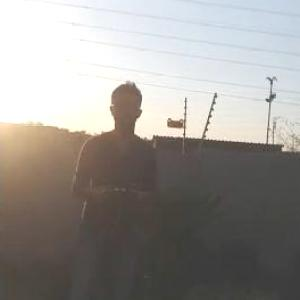follow: (59, 70, 157, 299)
